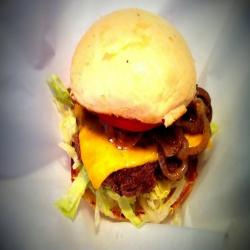burger: (52, 10, 221, 231)
